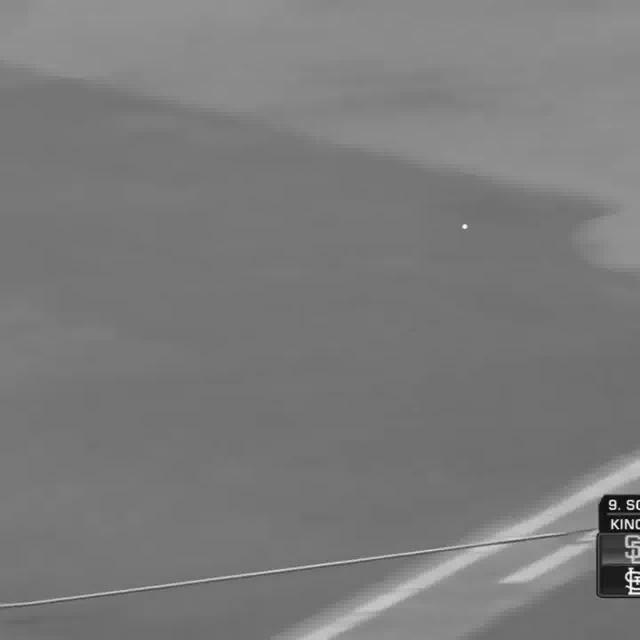baseball: (462, 224, 468, 232)
